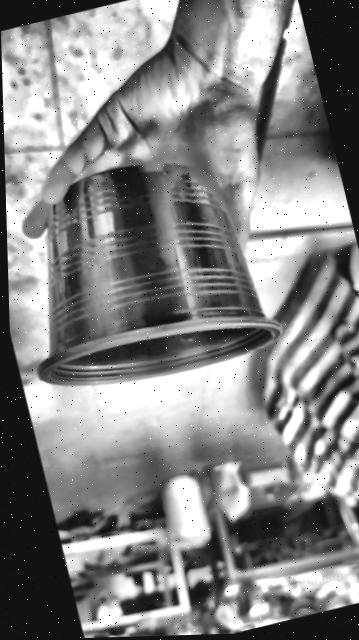pot: (4, 137, 293, 406)
